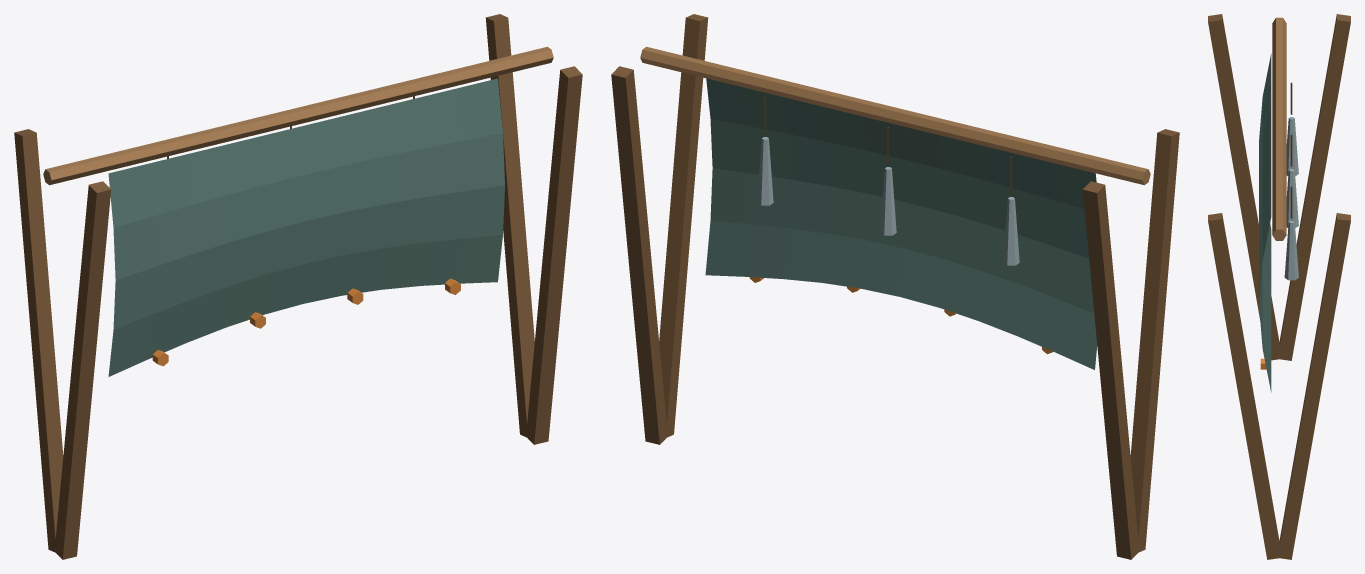
Rendered from drying-rack.glb.
The picture shows the model from 3 angles, left to right: view 1: azimuth 30°, elevation 25°; view 2: azimuth 150°, elevation 25°; view 3: azimuth 270°, elevation 25°; orthographic projection. The views are drawn at different scales.
Parts seen in each view (by area): view 1: drying-rack; view 2: drying-rack; view 3: drying-rack.
Part boxes in pixels (bbox=[...]): drying-rack: bbox=[14, 14, 582, 559]; drying-rack: bbox=[611, 14, 1179, 559]; drying-rack: bbox=[1208, 14, 1350, 559].
Bounding box in the file's own units: 2.45 × 1.84 × 0.6985.
